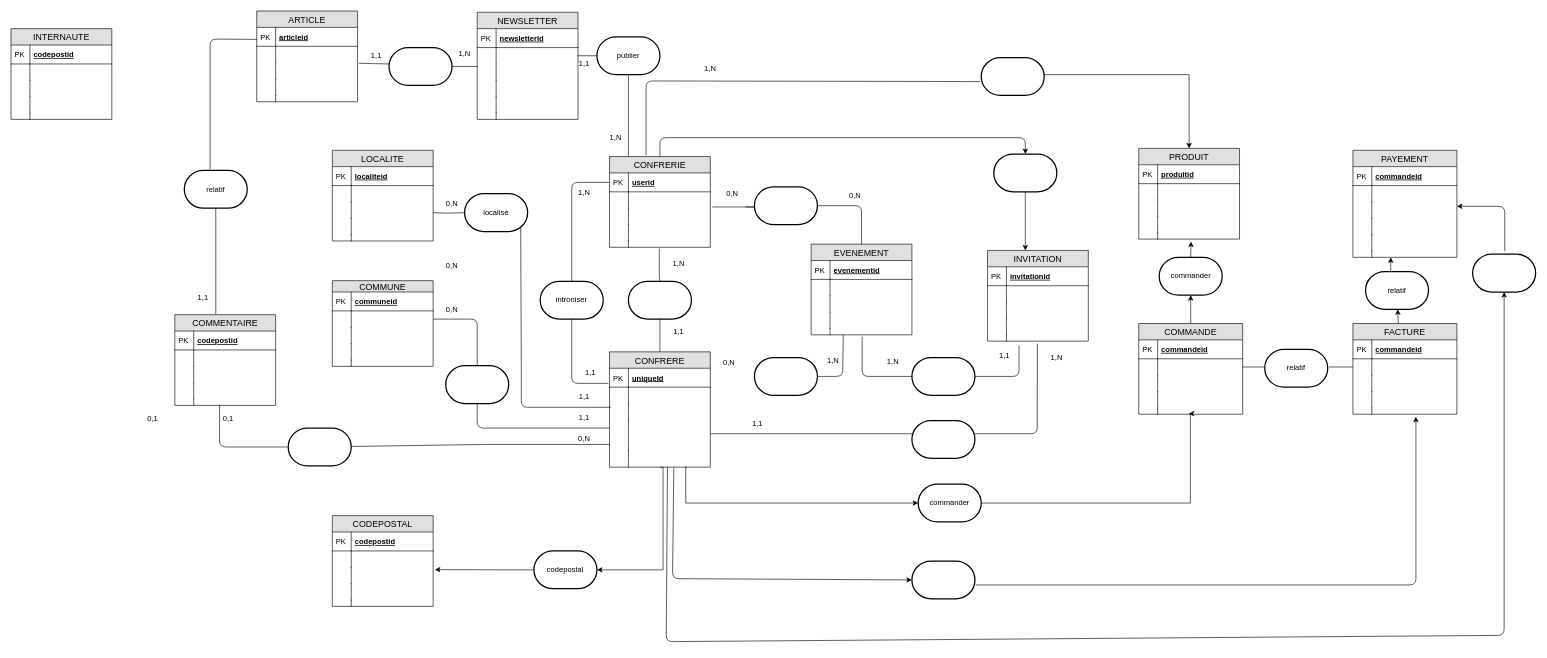
This 1547x658 diagram has some shape labels left out. Each missing label, with the centre of its shape:
adresser: point 1025,172
commenter: point 319,446
effectuer: point 1504,272
enregistré: point 477,384
membre: point 659,299
organise: point 785,205
participe: point 785,376
payer: point 943,579
produire: point 1012,76
relative: point 943,376
repondre: point 943,439
se compose: point 420,66
